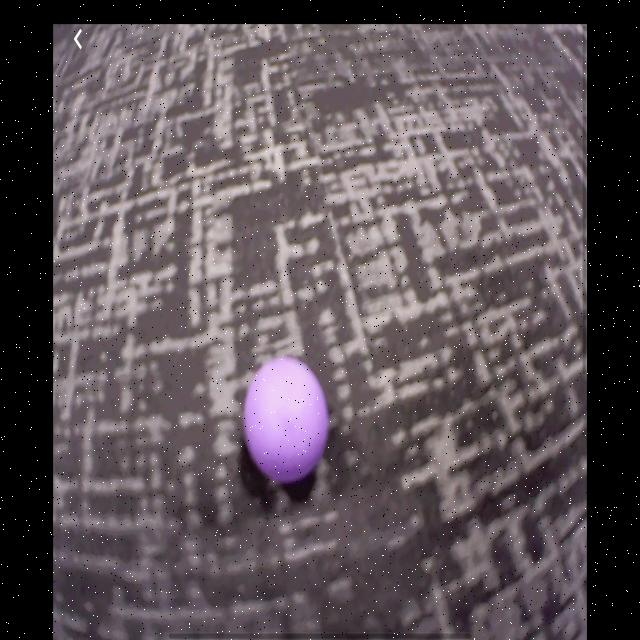ball: (245, 359, 328, 480)
